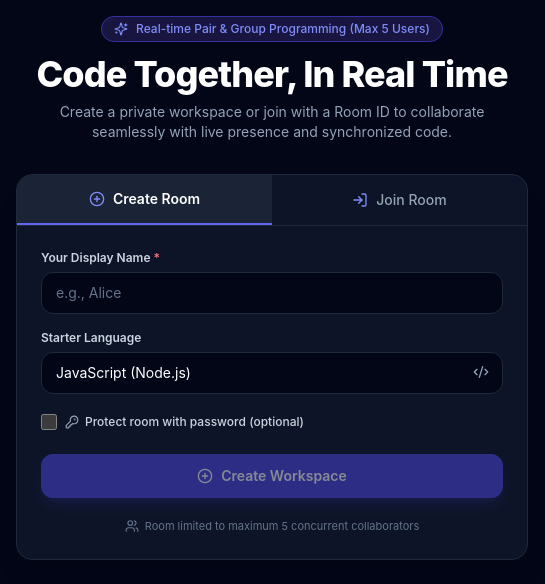
it: Client UI Component Rendering Tests › renders LandingView with Create Room and Join Room forms
Expected: the heading "Code Together, In Real Time" is shown, [36,54,508,94]
Expected: the text "Create Workspace" is shown, [221,466,347,486]
// Switch to Join Room tab
Click the button "Join Room". click: {"x": 400, "y": 200}
box: [272,175,527,225]
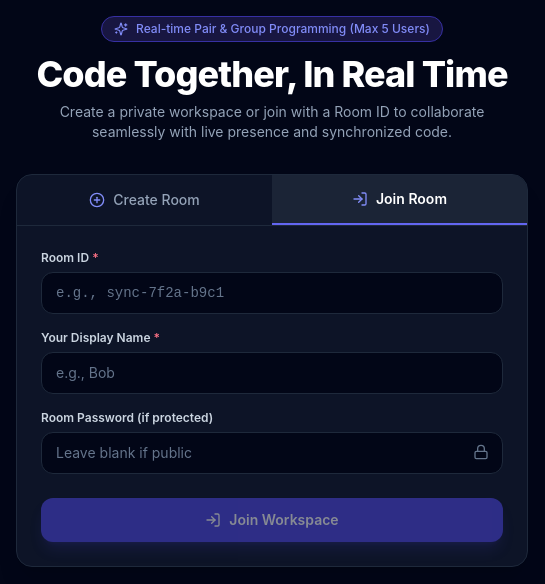
Expected: the text "Join Workspace" is shown, [229,510,339,530]
Expected: the field with placeholder "e.g., sync-7f2a-b9c1" is shown, [41,272,503,314]
